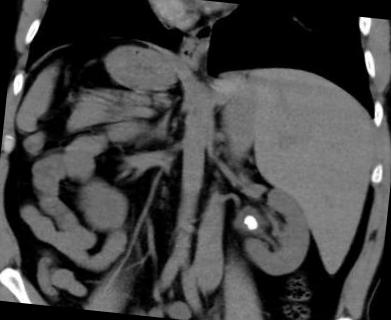Tas_Var: (240, 213, 260, 231)
